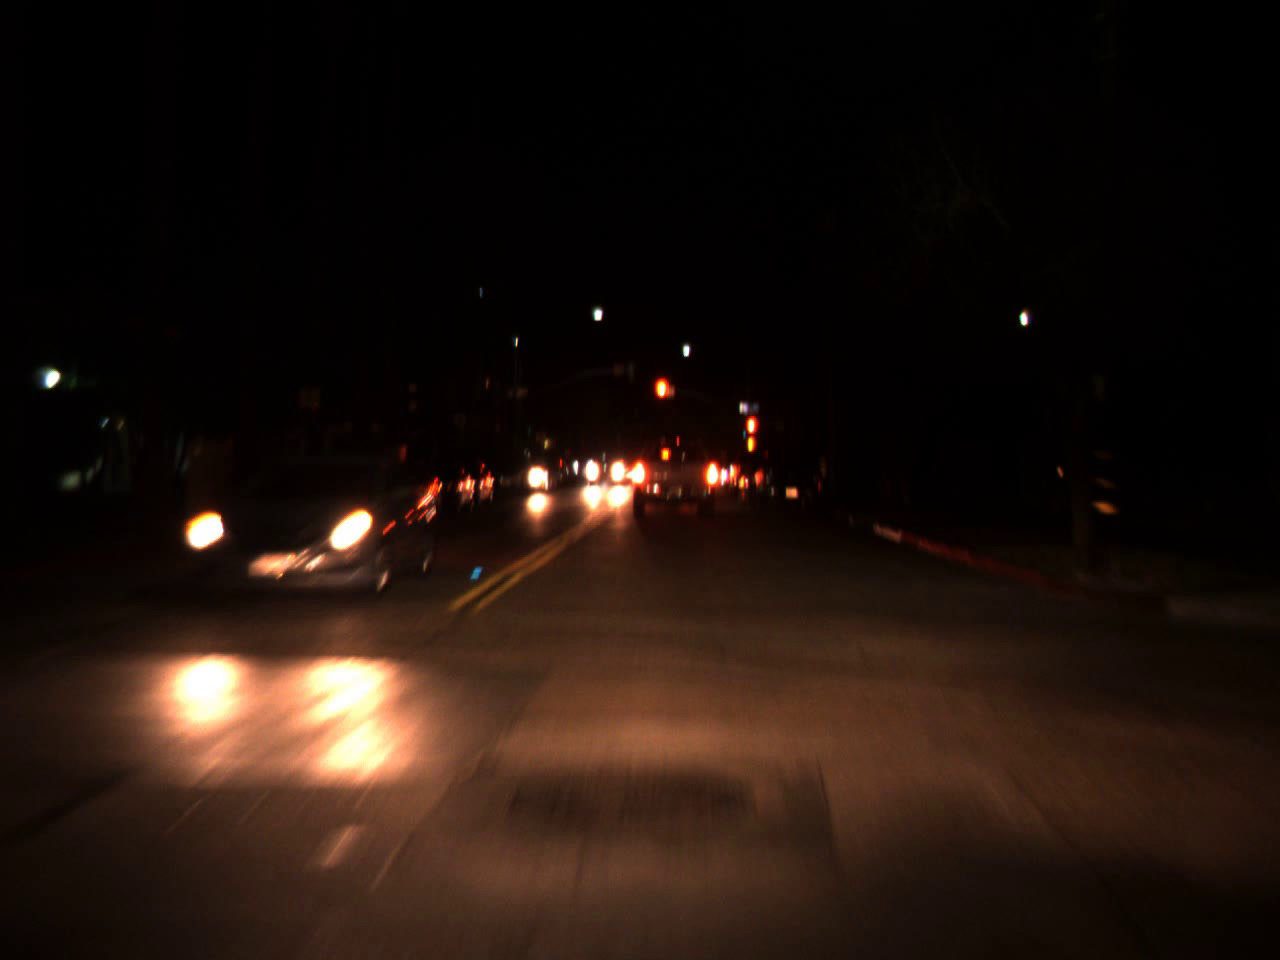stop: (652, 374, 673, 425), (743, 411, 759, 459)
